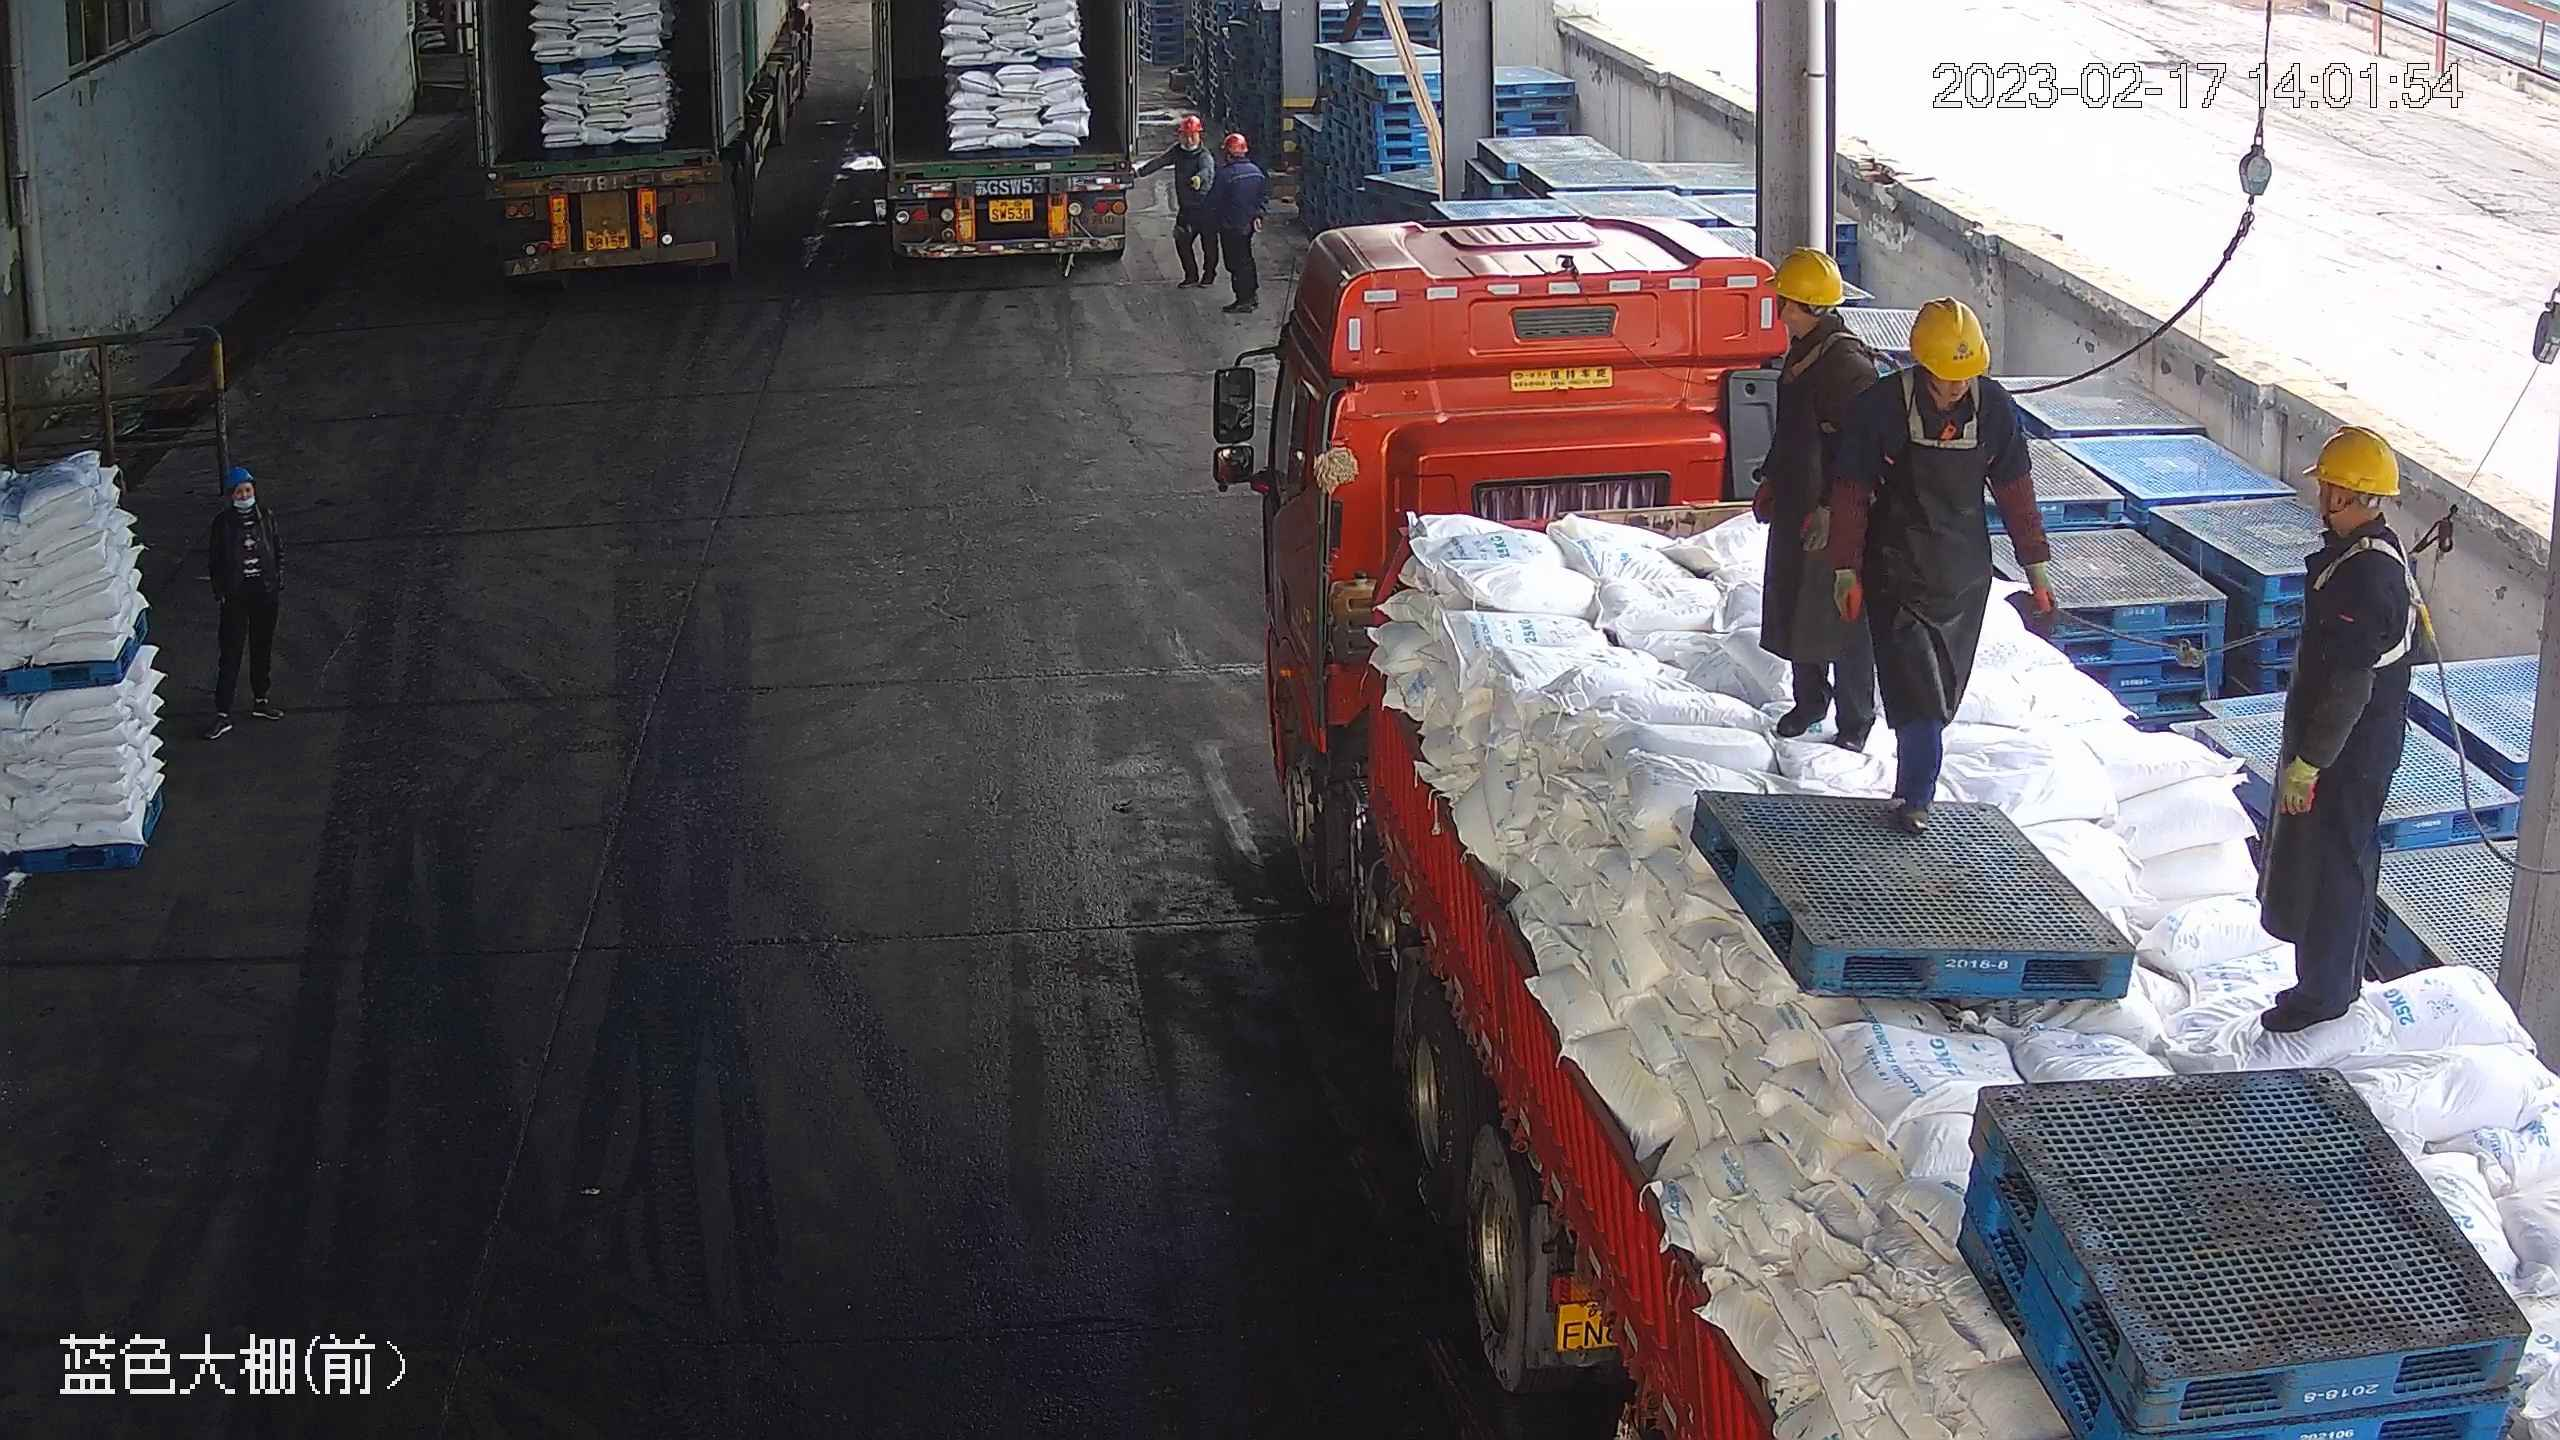belt: (2313, 527, 2431, 674), (1896, 362, 2026, 451), (1781, 324, 1878, 385)
head: (1843, 292, 2022, 453), (2263, 424, 2416, 605), (1763, 246, 1884, 391), (212, 466, 271, 549), (1214, 132, 1264, 190), (1165, 112, 1211, 168)
helmet: (1906, 292, 1993, 385), (2303, 423, 2406, 495), (1766, 245, 1847, 306), (228, 469, 257, 495), (1176, 111, 1204, 132), (1224, 131, 1250, 153)
people: (1833, 290, 2059, 826), (2250, 429, 2427, 1041), (1748, 242, 1894, 754), (207, 463, 282, 730), (1210, 131, 1269, 315), (1156, 112, 1214, 290)
truck: (1211, 210, 2560, 1435), (474, 1, 820, 285), (868, 1, 1141, 262)
